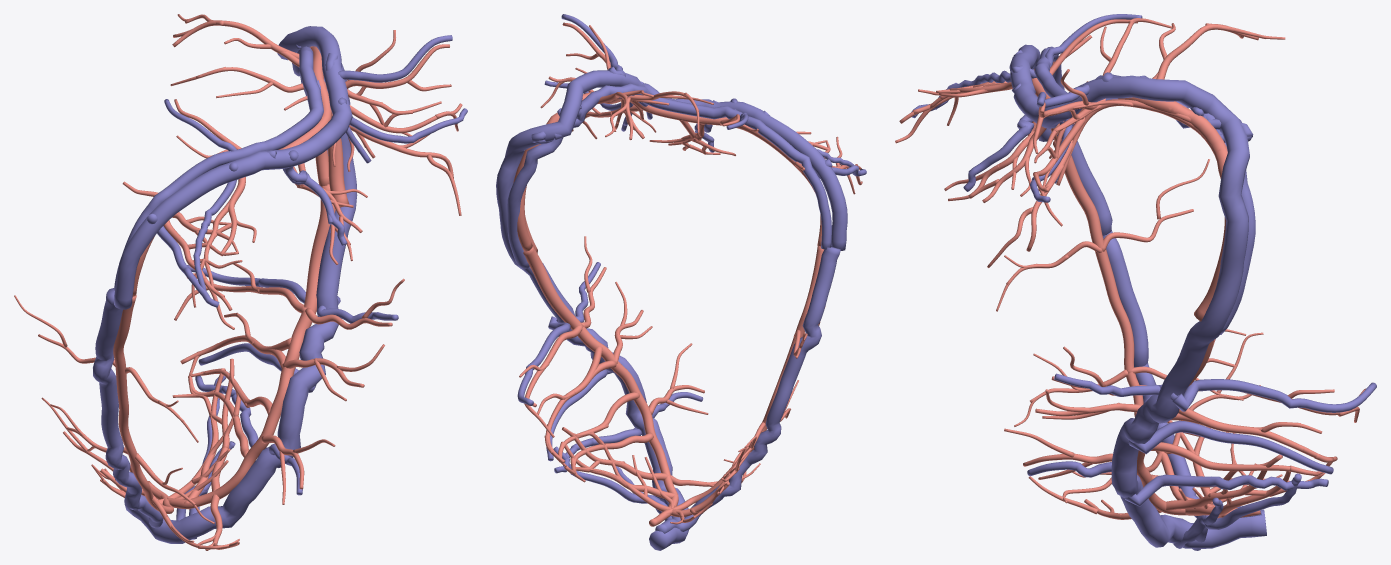
Rendered from vessels_1.glb.
3 renders of one model, left to right at view 1: azimuth 30°, elevation 25°; view 2: azimuth 150°, elevation 25°; view 3: azimuth 270°, elevation 25°, orthographic. The views are drawn at different scales.
Parts seen in each view (by area): view 1: Renderer Node; view 2: Renderer Node; view 3: Renderer Node.
Part boxes in pixels (x1,y1,x2,y2): Renderer Node: (14,14,467,550); Renderer Node: (496,14,866,550); Renderer Node: (895,14,1376,550).
Size of the model in its own units: 95.27 by 124 by 95.62.
